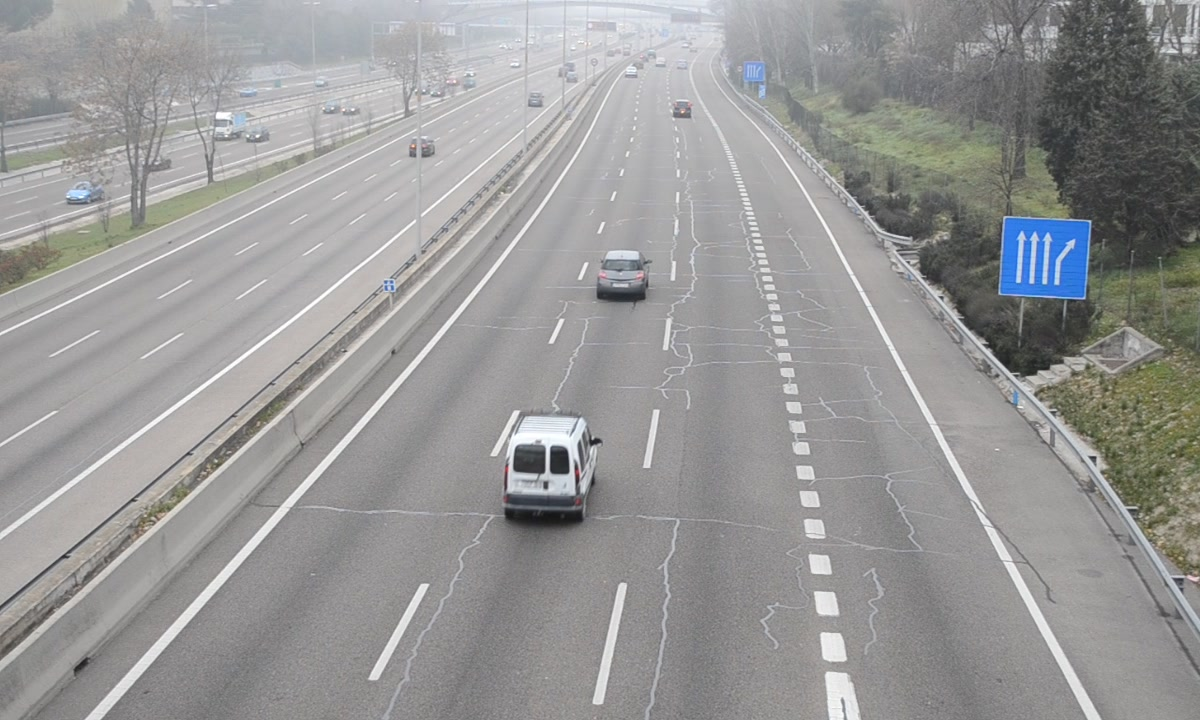car: (596, 249, 650, 296)
van: (501, 416, 597, 517)
